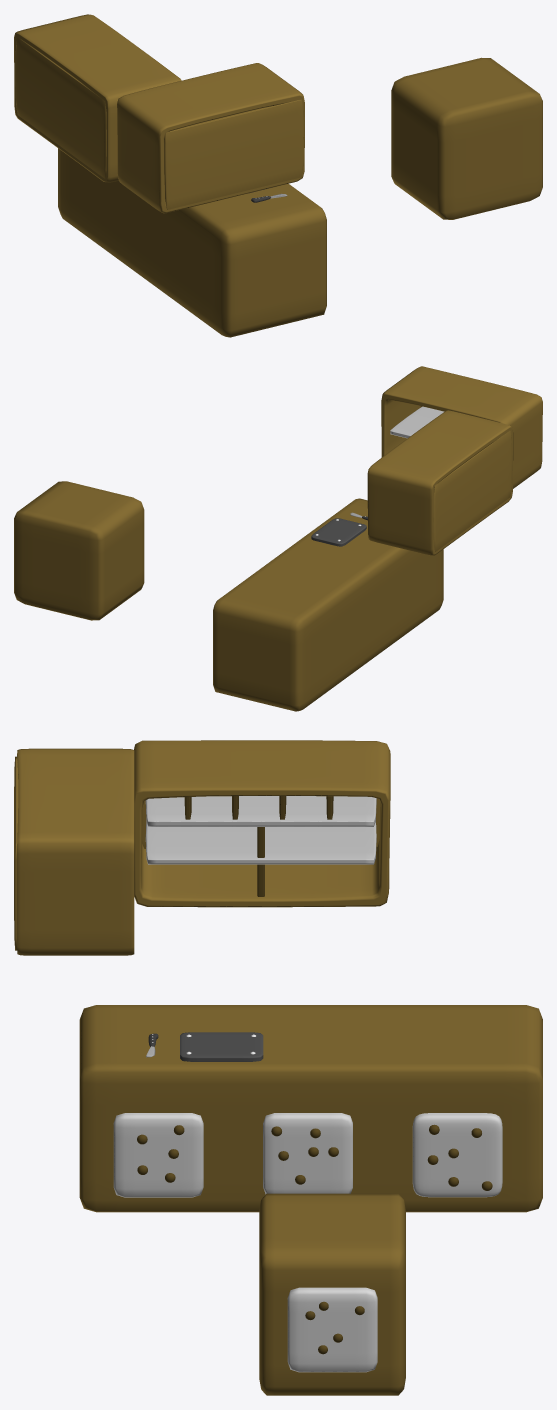
Rendered from mutfak, tezgahlar.fbx.
3 views of the same model, one above another, from view 1: azimuth 30°, elevation 25°; view 2: azimuth 150°, elevation 25°; view 3: azimuth 270°, elevation 25° (orthographic). The views are drawn at different scales.
Parts seen in each view (by area): view 1: pCube60, polySurface1, pCube52, pCube59, pCube54, pCube65; view 2: pCube60, polySurface1, pCube54, pCube52, pCube65, pCube69, pCube64; view 3: pCube60, pCube54, pCube52, polySurface1, pCube66, polySurface2, pCube63, pCube57, pCube56, pCube58, pCube69.
Part boxes in pixels (x1=…): pCube60: x1=58, y1=148, x2=326, y2=337; polySurface1: x1=391, y1=57, x2=542, y2=219; pCube52: x1=117, y1=63, x2=304, y2=213; pCube59: x1=164, y1=99, x2=303, y2=209; pCube54: x1=14, y1=14, x2=181, y2=182; pCube65: x1=15, y1=37, x2=106, y2=178; pCube60: x1=213, y1=498, x2=443, y2=711; polySurface1: x1=14, y1=481, x2=144, y2=620; pCube54: x1=367, y1=410, x2=513, y2=555; pCube52: x1=381, y1=366, x2=542, y2=488; pCube65: x1=433, y1=431, x2=512, y2=551; pCube69: x1=311, y1=518, x2=366, y2=546; pCube64: x1=390, y1=406, x2=444, y2=438; pCube60: x1=79, y1=1005, x2=542, y2=1212; pCube54: x1=134, y1=740, x2=390, y2=907; pCube52: x1=17, y1=748, x2=134, y2=955; polySurface1: x1=259, y1=1193, x2=405, y2=1395; pCube66: x1=145, y1=821, x2=376, y2=864; polySurface2: x1=287, y1=1287, x2=377, y2=1372; pCube63: x1=113, y1=1113, x2=203, y2=1197; pCube57: x1=412, y1=1113, x2=502, y2=1197; pCube56: x1=263, y1=1113, x2=352, y2=1194; pCube58: x1=145, y1=796, x2=376, y2=826; pCube69: x1=180, y1=1032, x2=263, y2=1061.
Size of the model in its own units: 12.89 by 6.33 by 8.84.
